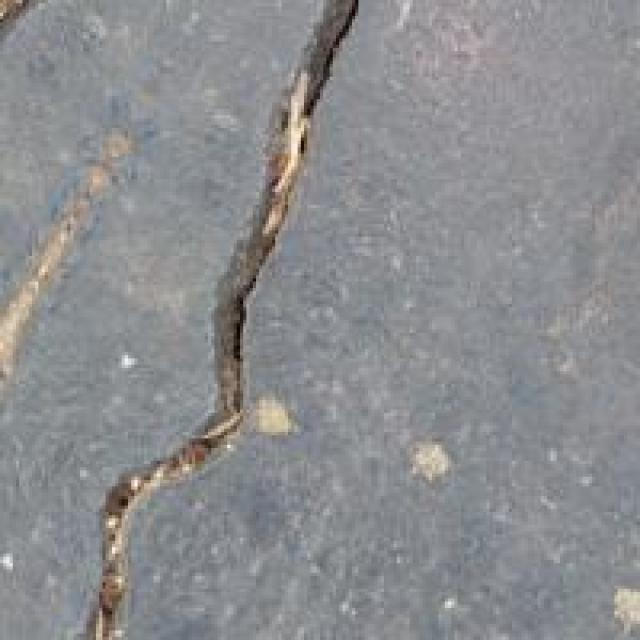Crack: (80, 3, 381, 637)
